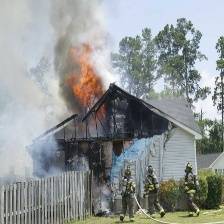fire: (68, 50, 111, 113)
smoke: (34, 3, 112, 81), (1, 2, 32, 169)
